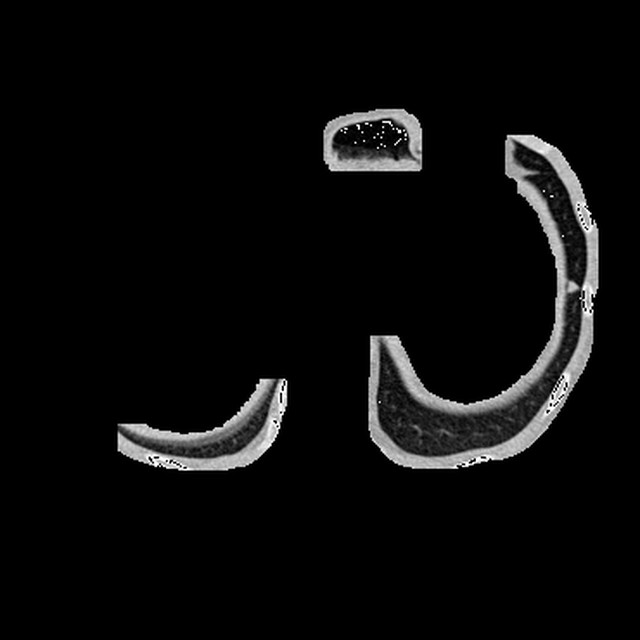PN: (567, 280, 578, 291)
